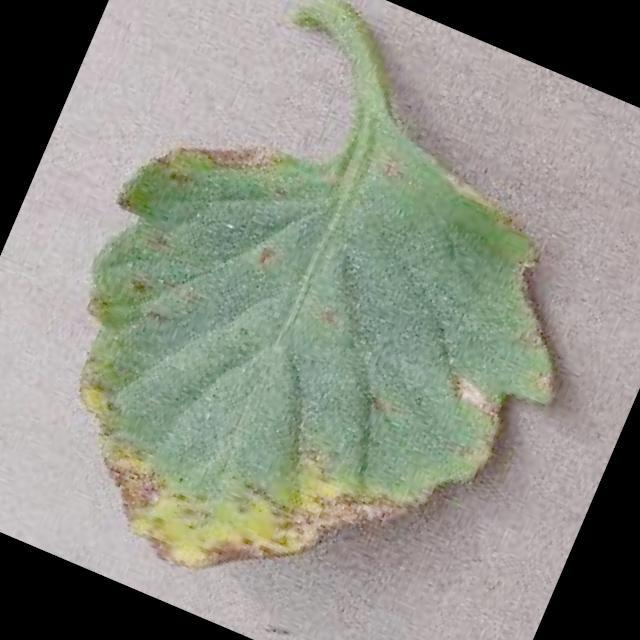Tomato bacterial spot leaf: (0, 32, 636, 640)
